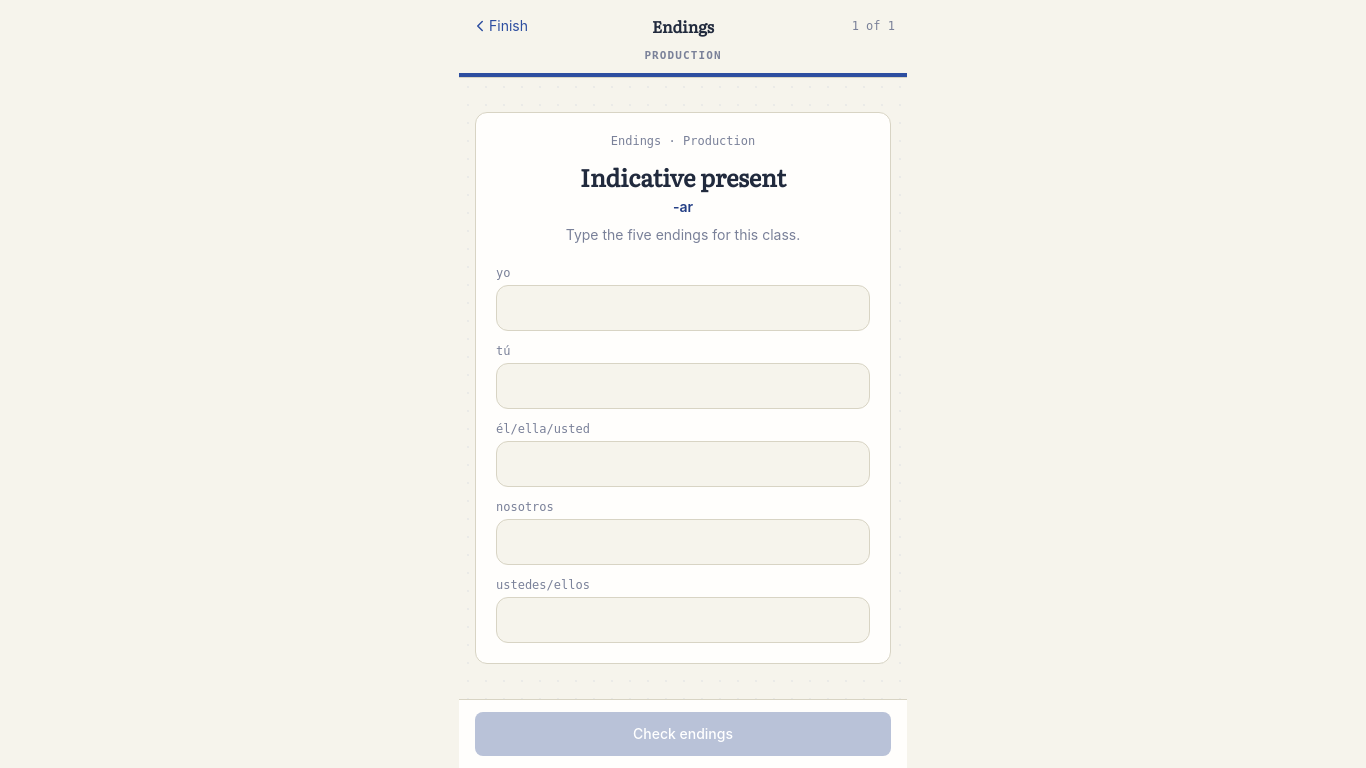
Test: Typed Endings sessions › requires all five fields, works without a dictionary, and stores no typed text
This screenshot has width=1366, height=768.
Check: the button "Check endings" is disabled, box left=475, top=712, right=891, bottom=756
Type "o" into the field named "yo ending".
click(683, 308); type("o")  # box left=496, top=285, right=870, bottom=331
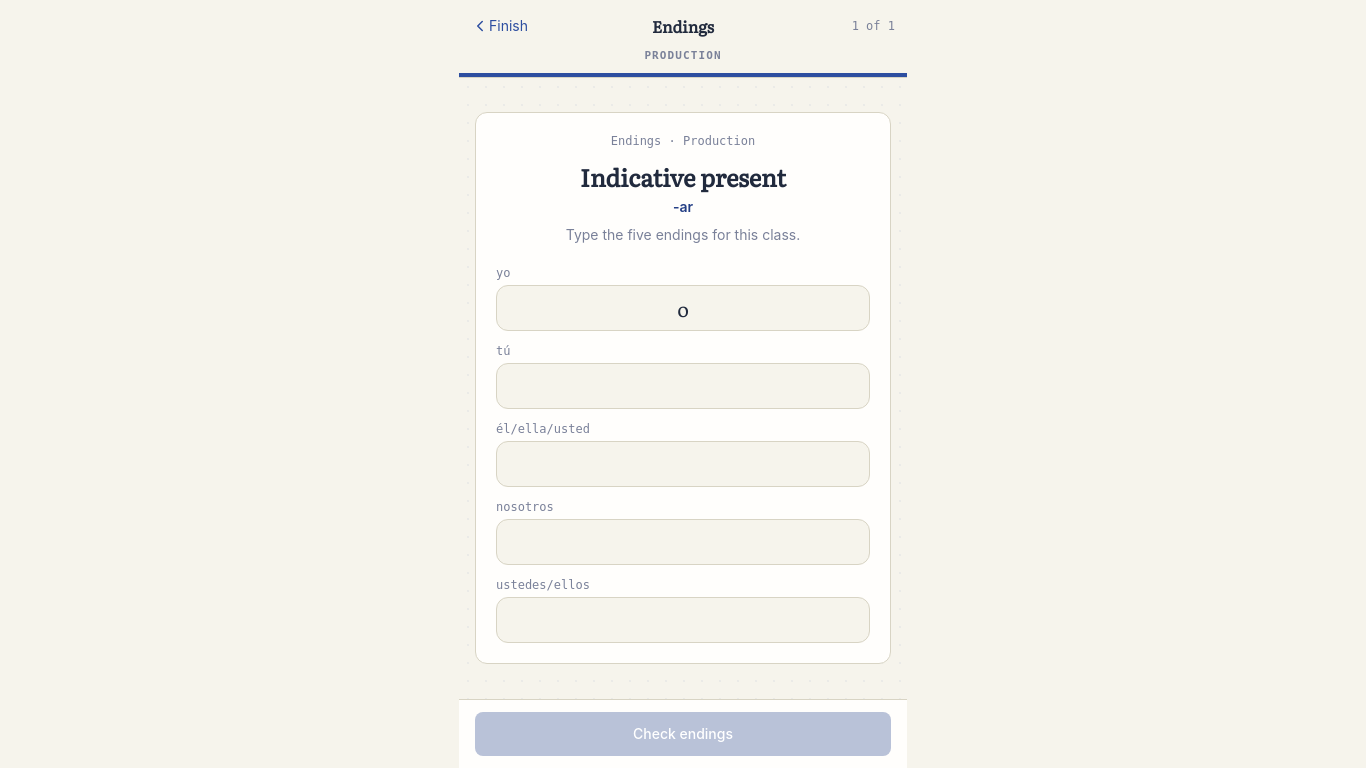
Type "as" into the field named "tú ending".
click(683, 386); type("as")  # box left=496, top=363, right=870, bottom=409
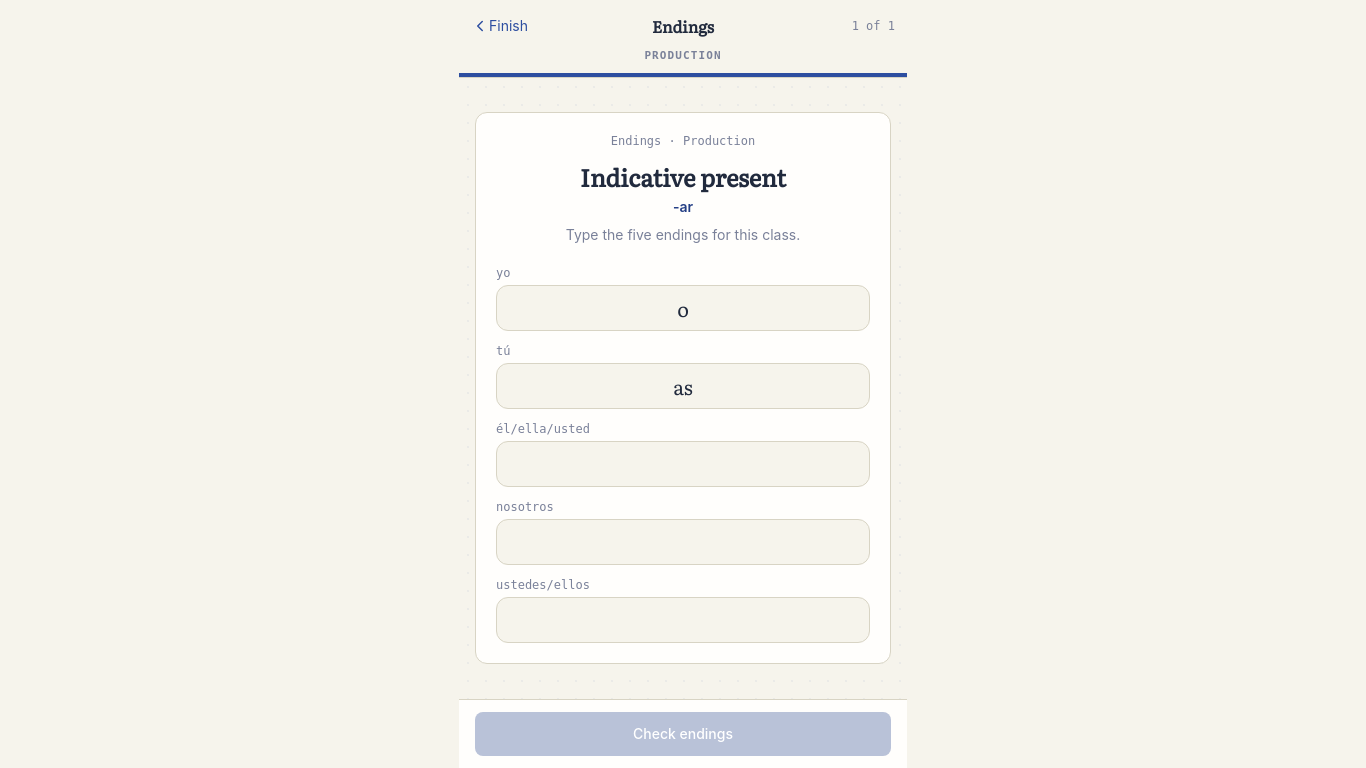
Type "a" into the field labelled "él/ella/usted".
click(683, 464); type("a")  # box left=496, top=441, right=870, bottom=487
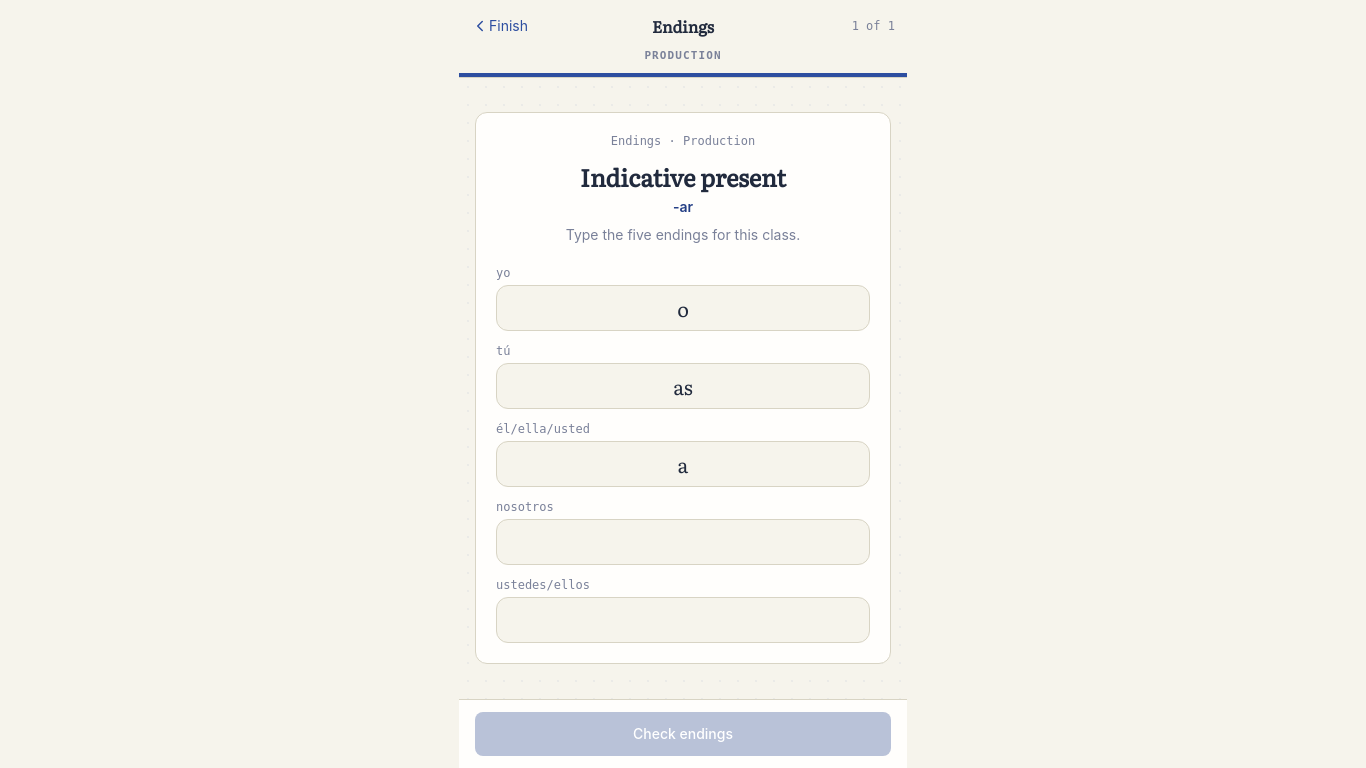
Type "amos" into the field labelled "nosotros".
click(683, 542); type("amos")  # box left=496, top=519, right=870, bottom=565
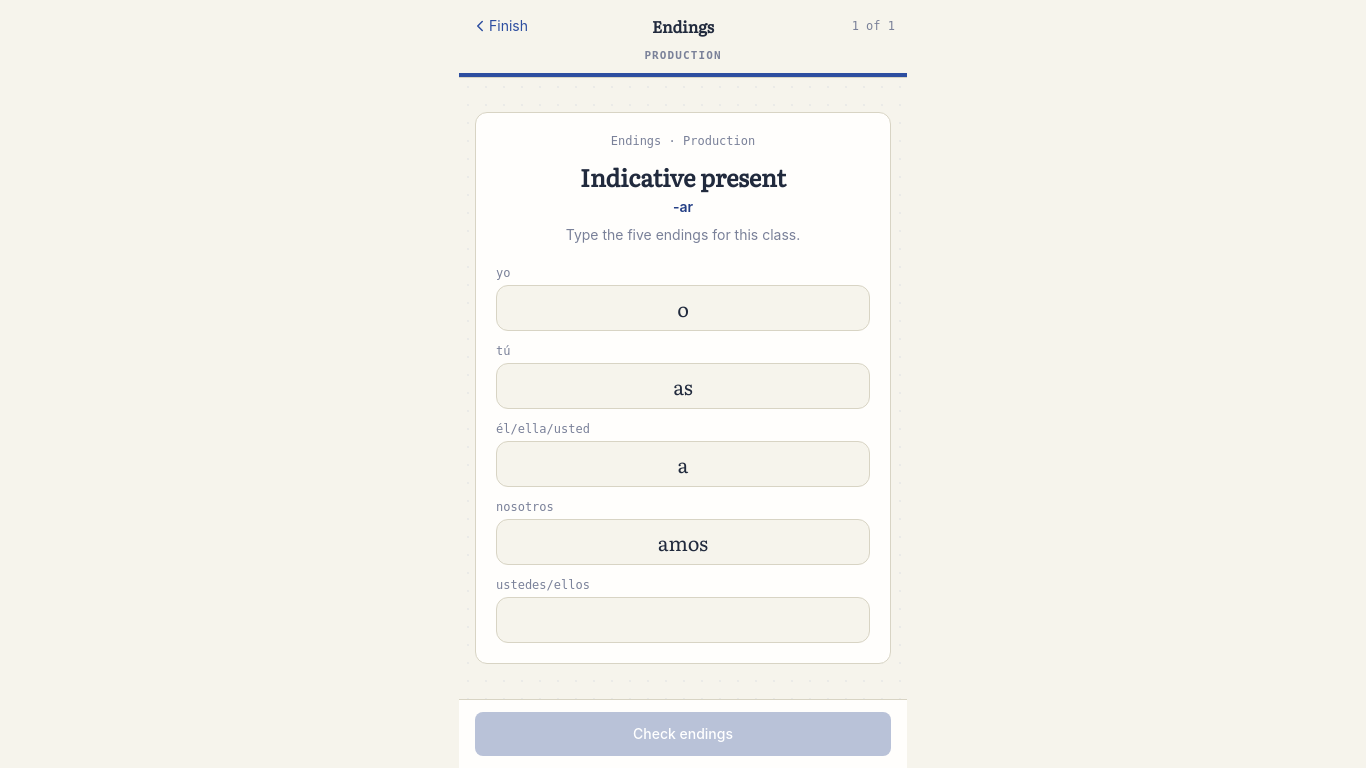
Type "an" into the field labelled "ustedes/ellos".
click(683, 620); type("an")  # box left=496, top=597, right=870, bottom=643
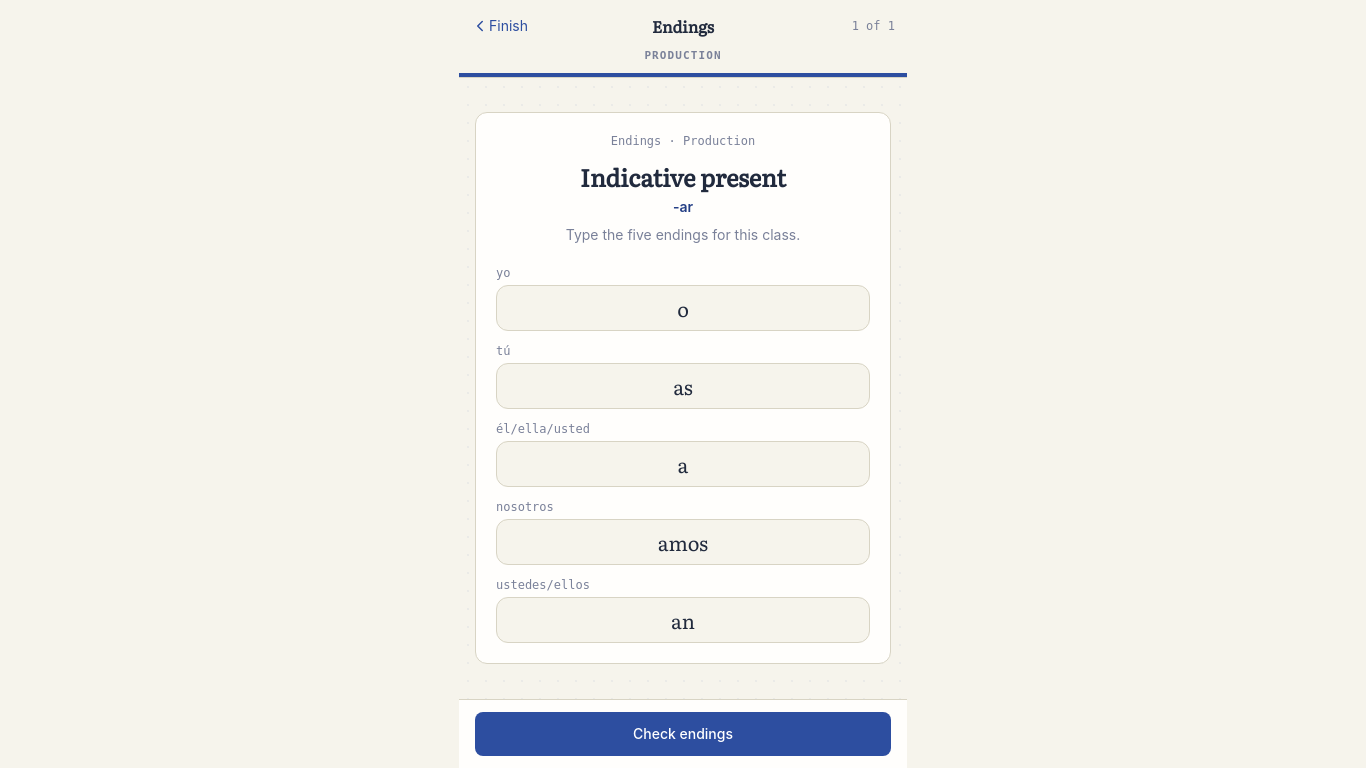
Check: the button "Check endings" is enabled
Click the button "Check endings".
click(683, 734)  # box left=475, top=712, right=891, bottom=756
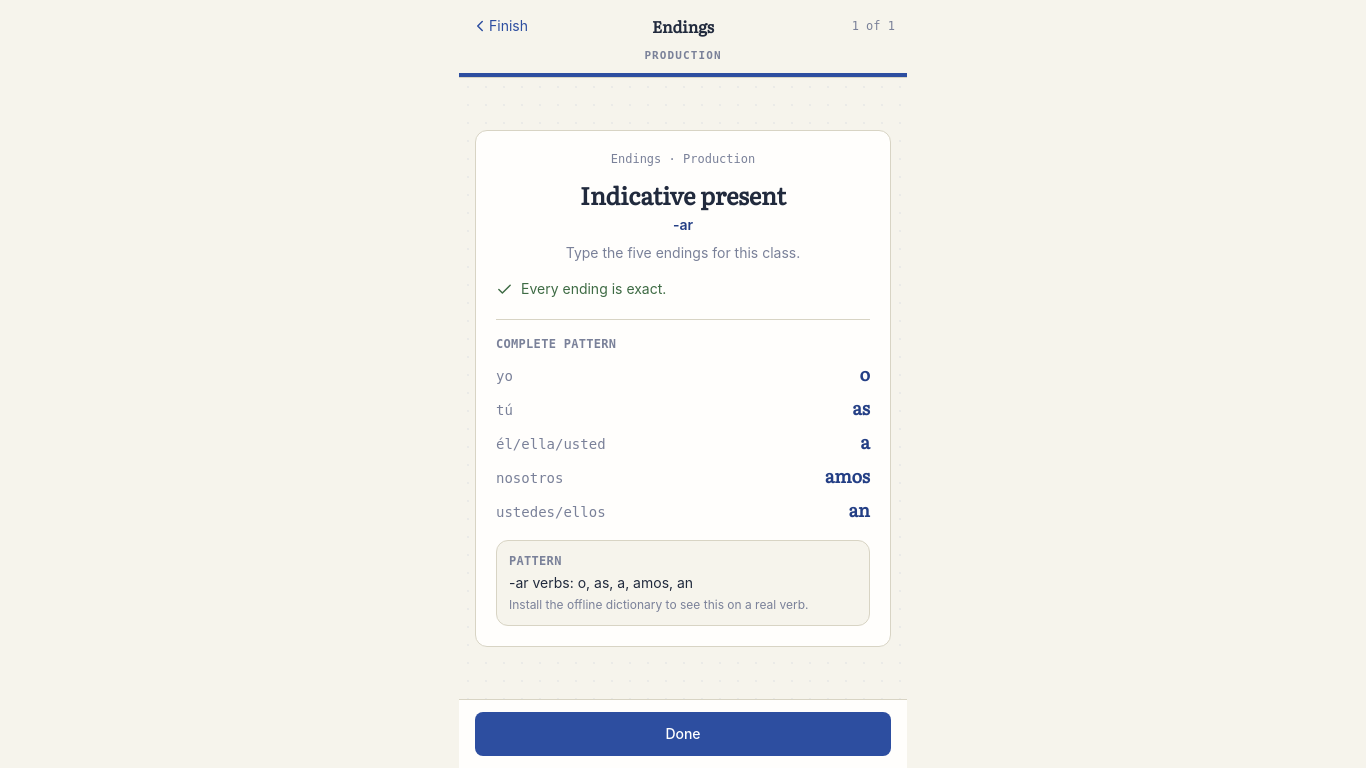
Check: the text "Every ending is exact." is shown, box left=521, top=279, right=666, bottom=299
Check: the text "Complete pattern" is shown, box left=496, top=337, right=616, bottom=351
Check: the text "Install the offline dictionary to see this on a real verb." is shown, box left=509, top=597, right=857, bottom=613
